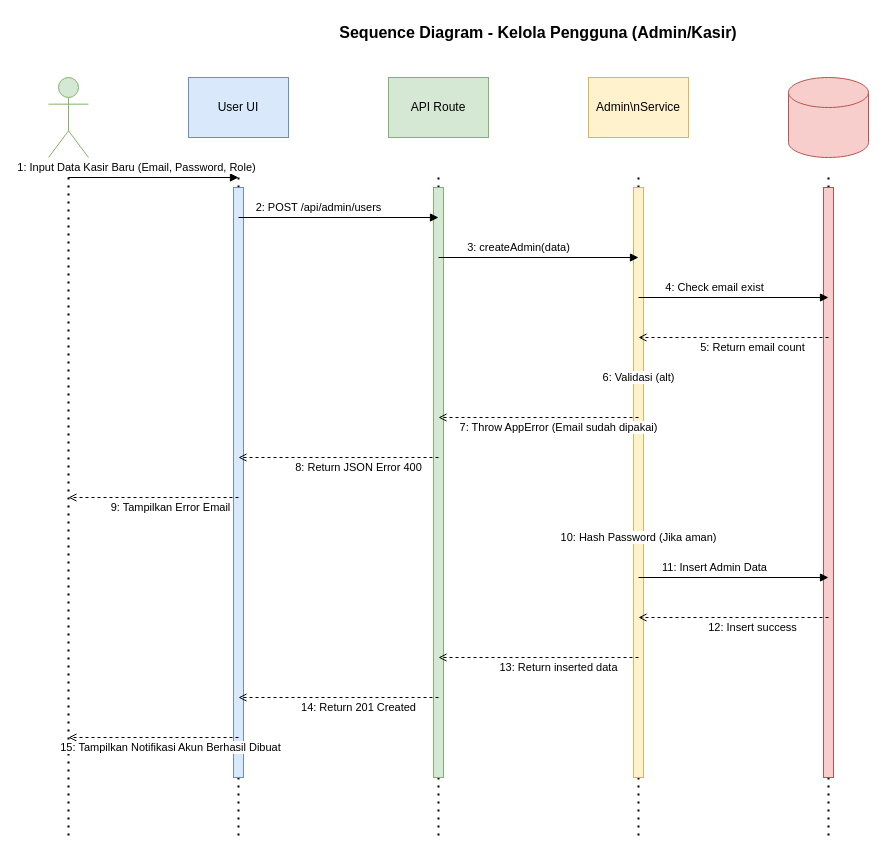
This 886x856 diagram has some shape labels left out. The box of each missing label's shape, as (x1, y1, x2, y2) in pixels:
Database: (788, 76, 868, 158)
Super Admin: (48, 76, 88, 158)
